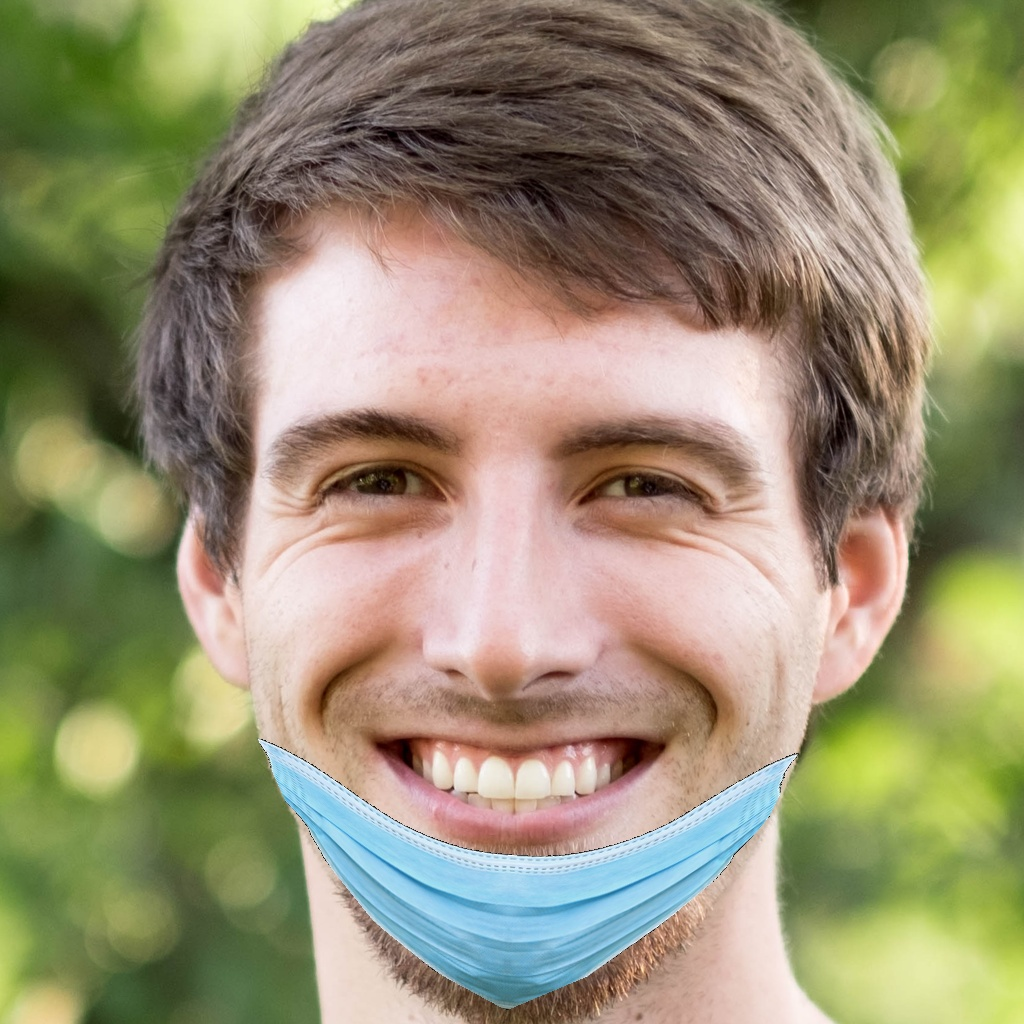mascarilla_mal_puesta: (214, 333, 842, 1020)
